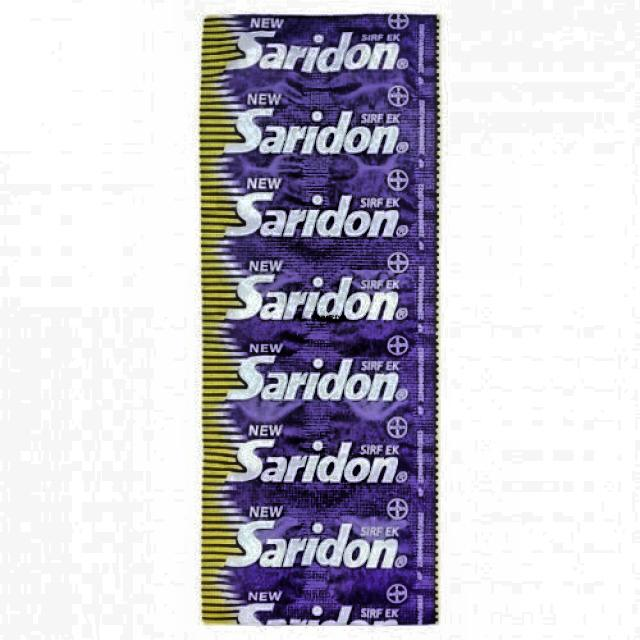Saridon: (207, 17, 438, 618)
